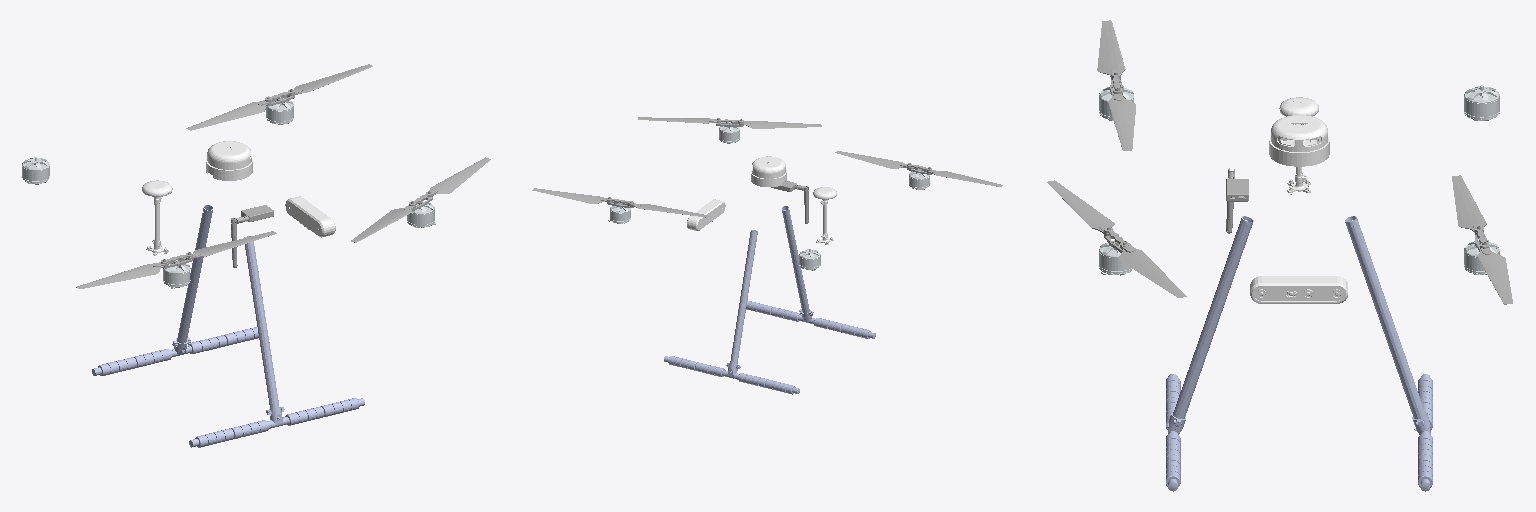
--- What the picture shows (computed from the rendered views, not written in the file) ---
3 views of the same robot in one strip: view 1: azimuth 30°, elevation 25°; view 2: azimuth 150°, elevation 25°; view 3: azimuth 270°, elevation 25° (orthographic).
Robot: X650_UAV — 20 links, 19 joints (4 continuous, 15 fixed); root link base_link; default pose: every joint at zero.
Visible links, largest first — view 1: right_landing_gear_link, left_landing_gear_link, lidar_link, back_prop_cw_link, front_prop_cw_link, front_prop_ccw_link, depth_camera_link, gps_module_link, telemetry_link, back_motor_ccw_link, front_motor_cw_link, back_motor_cw_link (+1 smaller); view 2: left_landing_gear_link, right_landing_gear_link, lidar_link, front_prop_cw_link, front_prop_ccw_link, back_prop_cw_link, depth_camera_link; view 3: left_landing_gear_link, right_landing_gear_link, lidar_link, depth_camera_link, front_prop_ccw_link, front_prop_cw_link, back_prop_cw_link, back_motor_ccw_link, gps_module_link, telemetry_link, front_motor_ccw_link, front_motor_cw_link.
Boxes of the visible links, box(x1,y1,x2,y2) form: right_landing_gear_link: box(189, 236, 364, 447); left_landing_gear_link: box(92, 205, 258, 375); lidar_link: box(206, 141, 252, 180); back_prop_cw_link: box(76, 231, 276, 288); front_prop_cw_link: box(186, 64, 372, 130); front_prop_ccw_link: box(351, 157, 490, 242); depth_camera_link: box(285, 196, 335, 237); gps_module_link: box(142, 180, 172, 255); telemetry_link: box(231, 205, 273, 267); back_motor_ccw_link: box(21, 157, 49, 184); front_motor_cw_link: box(266, 97, 293, 124); back_motor_cw_link: box(163, 260, 190, 288); left_landing_gear_link: box(664, 230, 799, 394); right_landing_gear_link: box(746, 206, 875, 338); lidar_link: box(751, 156, 786, 186); front_prop_cw_link: box(532, 188, 707, 217); front_prop_ccw_link: box(638, 117, 821, 128); back_prop_cw_link: box(835, 151, 1002, 186); depth_camera_link: box(687, 199, 725, 230); left_landing_gear_link: box(1345, 216, 1432, 491); right_landing_gear_link: box(1166, 216, 1253, 491); lidar_link: box(1269, 115, 1329, 166); depth_camera_link: box(1250, 276, 1347, 303); front_prop_ccw_link: box(1047, 180, 1186, 297); front_prop_cw_link: box(1452, 175, 1512, 304); back_prop_cw_link: box(1097, 20, 1135, 150); back_motor_ccw_link: box(1464, 85, 1499, 120); gps_module_link: box(1279, 97, 1318, 194); telemetry_link: box(1226, 168, 1248, 233); front_motor_ccw_link: box(1099, 240, 1132, 275); front_motor_cw_link: box(1464, 241, 1499, 274).
Size in the robot's own frame: 0.8458 by 0.5875 by 0.4385 metres.
Meshes: 20 distinct files referenced, 13 mesh visuals loaded (13 binary STL); not drawn: 7 (reference not matched to a file when rendering).

URDF robot description (X650_UAV):
<?xml version="1.0" encoding="utf-8"?>
<!-- This URDF was automatically created by SolidWorks to URDF Exporter! Originally created by Stephen Brawner ([email redacted]) 
     Commit Version: 1.6.0-4-g7f85cfe  Build Version: 1.6.7995.38578
     For more information, please see http://wiki.ros.org/sw_urdf_exporter -->
<robot
  name="X650_UAV">
  <link
    name="base_link">
    <inertial>
      <origin
        xyz="-0.0025838 0.00051225 -0.019551"
        rpy="0 0 0" />
      <mass
        value="1.4371" />
      <inertia
        ixx="0.00098413"
        ixy="4.9253E-05"
        ixz="6.648E-07"
        iyy="0.0038692"
        iyz="2.8305E-08"
        izz="0.0047748" />
    </inertial>
    <visual>
      <origin
        xyz="0 0 0"
        rpy="0 0 0" />
      <geometry>
        <mesh
          filename="package://x650_description/meshes/base_link.STL" />
      </geometry>
      <material
        name="">
        <color
          rgba="0.75294 0.75294 0.75294 1" />
      </material>
    </visual>
    <collision>
      <origin
        xyz="0 0 0"
        rpy="0 0 0" />
      <geometry>
        <mesh
          filename="package://x650_description/meshes/base_link.STL" />
      </geometry>
    </collision>
  </link>
  <link
    name="front_arm_ccw_link">
    <inertial>
      <origin
        xyz="5.14187352146367E-06 0.000103088445734027 0.101201605126024"
        rpy="0 0 0" />
      <mass
        value="0.163581488184572" />
      <inertia
        ixx="0.000495858318312467"
        ixy="1.69719015225508E-08"
        ixz="-1.5555901263121E-08"
        iyy="0.000496622426658751"
        iyz="3.01279610270572E-08"
        izz="1.58530814438199E-05" />
    </inertial>
    <visual>
      <origin
        xyz="0 0 0"
        rpy="0 0 0" />
      <geometry>
        <mesh
          filename="package://x650_description/meshes/front_arm_ccw_link.STL" />
      </geometry>
      <material
        name="">
        <color
          rgba="0.529411764705882 0.549019607843137 0.549019607843137 1" />
      </material>
    </visual>
    <collision>
      <origin
        xyz="0 0 0"
        rpy="0 0 0" />
      <geometry>
        <mesh
          filename="package://x650_description/meshes/front_arm_ccw_link.STL" />
      </geometry>
    </collision>
  </link>
  <joint
    name="front_arm_ccw_joint"
    type="fixed">
    <origin
      xyz="0.080474 -0.082381 0.043625"
      rpy="-1.5708 0 -2.3562" />
    <parent
      link="base_link" />
    <child
      link="front_arm_ccw_link" />
    <axis
      xyz="0 0 0" />
  </joint>
  <link
    name="front_motor_ccw_link">
    <inertial>
      <origin
        xyz="-5.94792757824258E-08 0.0089323100189773 0.000144520880497323"
        rpy="0 0 0" />
      <mass
        value="0.107028077375073" />
      <inertia
        ixx="1.99852843592467E-05"
        ixy="-9.14808285986034E-11"
        ixz="-2.70349866236598E-09"
        iyy="2.60832369889382E-05"
        iyz="2.20707374208015E-07"
        izz="1.97284529490253E-05" />
    </inertial>
    <visual>
      <origin
        xyz="0 0 0"
        rpy="0 0 0" />
      <geometry>
        <mesh
          filename="package://x650_description/meshes/front_motor_ccw_link.STL" />
      </geometry>
      <material
        name="">
        <color
          rgba="0.898039215686275 0.917647058823529 0.929411764705882 1" />
      </material>
    </visual>
    <collision>
      <origin
        xyz="0 0 0"
        rpy="0 0 0" />
      <geometry>
        <mesh
          filename="package://x650_description/meshes/front_motor_ccw_link.STL" />
      </geometry>
    </collision>
  </link>
  <joint
    name="front_motor_ccw_joint"
    type="fixed">
    <origin
      xyz="0 -0.022 0.209"
      rpy="0 0 3.1416" />
    <parent
      link="front_arm_ccw_link" />
    <child
      link="front_motor_ccw_link" />
    <axis
      xyz="0 0 0" />
  </joint>
  <link
    name="front_prop_ccw_link">
    <inertial>
      <origin
        xyz="2.11228381036821E-05 -0.000575623595751584 0.00874250262086616"
        rpy="0 0 0" />
      <mass
        value="0.0232885965258771" />
      <inertia
        ixx="7.81406911098823E-07"
        ixy="-1.93046094872738E-06"
        ixz="-5.84228099790564E-08"
        iyy="2.83657143471591E-05"
        iyz="-3.95826230995061E-08"
        izz="2.90964600411815E-05" />
    </inertial>
    <visual>
      <origin
        xyz="0 0 0"
        rpy="0 0 0" />
      <geometry>
        <mesh
          filename="package://x650_description/meshes/front_prop_ccw_link.STL" />
      </geometry>
      <material
        name="">
        <color
          rgba="0.752941176470588 0.752941176470588 0.752941176470588 1" />
      </material>
    </visual>
    <collision>
      <origin
        xyz="0 0 0"
        rpy="0 0 0" />
      <geometry>
        <mesh
          filename="package://x650_description/meshes/front_prop_ccw_link.STL" />
      </geometry>
    </collision>
  </link>
  <joint
    name="front_prop_ccw_joint"
    type="continuous">
    <origin
      xyz="0 0.024318 0"
      rpy="1.5108 0.40362 3.1394" />
    <parent
      link="front_motor_ccw_link" />
    <child
      link="front_prop_ccw_link" />
    <axis
      xyz="0 0 1" />
    <limit
      effort="100"
      velocity="100" />
  </joint>
  <link
    name="front_arm_cw_link">
    <inertial>
      <origin
        xyz="5.14187362136292E-06 0.000103088445712607 0.10120160512516"
        rpy="0 0 0" />
      <mass
        value="0.163581488183559" />
      <inertia
        ixx="0.000495858318312464"
        ixy="1.69719015255707E-08"
        ixz="-1.55559012619851E-08"
        iyy="0.000496622426658752"
        iyz="3.01279610276289E-08"
        izz="1.58530814438145E-05" />
    </inertial>
    <visual>
      <origin
        xyz="0 0 0"
        rpy="0 0 0" />
      <geometry>
        <mesh
          filename="package://x650_description/meshes/front_arm_cw_link.STL" />
      </geometry>
      <material
        name="">
        <color
          rgba="0.529411764705882 0.549019607843137 0.549019607843137 1" />
      </material>
    </visual>
    <collision>
      <origin
        xyz="0 0 0"
        rpy="0 0 0" />
      <geometry>
        <mesh
          filename="package://x650_description/meshes/front_arm_cw_link.STL" />
      </geometry>
    </collision>
  </link>
  <joint
    name="front_arm_cw_joint"
    type="fixed">
    <origin
      xyz="0.0804741042413417 0.0818613658673572 0.0436254108086869"
      rpy="-1.5707963267949 0 -0.785398163397448" />
    <parent
      link="base_link" />
    <child
      link="front_arm_cw_link" />
    <axis
      xyz="0 0 0" />
  </joint>
  <link
    name="front_motor_cw_link">
    <inertial>
      <origin
        xyz="-5.94792757269147E-08 0.00893231001897728 0.000144520880497323"
        rpy="0 0 0" />
      <mass
        value="0.107028077375073" />
      <inertia
        ixx="1.99852843592467E-05"
        ixy="-9.14808285889419E-11"
        ixz="-2.70349866238292E-09"
        iyy="2.60832369889382E-05"
        iyz="2.20707374208015E-07"
        izz="1.97284529490253E-05" />
    </inertial>
    <visual>
      <origin
        xyz="0 0 0"
        rpy="0 0 0" />
      <geometry>
        <mesh
          filename="package://x650_description/meshes/front_motor_cw_link.STL" />
      </geometry>
      <material
        name="">
        <color
          rgba="0.898039215686275 0.917647058823529 0.929411764705882 1" />
      </material>
    </visual>
    <collision>
      <origin
        xyz="0 0 0"
        rpy="0 0 0" />
      <geometry>
        <mesh
          filename="package://x650_description/meshes/front_motor_cw_link.STL" />
      </geometry>
    </collision>
  </link>
  <joint
    name="front_motor_cw_joint"
    type="fixed">
    <origin
      xyz="0 -0.022 0.209"
      rpy="0 0 3.14159265358979" />
    <parent
      link="front_arm_cw_link" />
    <child
      link="front_motor_cw_link" />
    <axis
      xyz="0 0 0" />
  </joint>
  <link
    name="front_prop_cw_link">
    <inertial>
      <origin
        xyz="1.70322207349027E-06 -0.000131171076623415 0.00551466266249338"
        rpy="0 0 0" />
      <mass
        value="0.023286089430334" />
      <inertia
        ixx="6.48766355495004E-07"
        ixy="-1.71425530770085E-07"
        ixz="1.31741915464193E-10"
        iyy="2.84758053692334E-05"
        iyz="5.4172324392471E-11"
        izz="2.90783664832776E-05" />
    </inertial>
    <visual>
      <origin
        xyz="0 0 0"
        rpy="0 0 0" />
      <geometry>
        <mesh
          filename="package://x650_description/meshes/front_prop_cw_link.STL" />
      </geometry>
      <material
        name="">
        <color
          rgba="0.752941176470588 0.752941176470588 0.752941176470588 1" />
      </material>
    </visual>
    <collision>
      <origin
        xyz="0 0 0"
        rpy="0 0 0" />
      <geometry>
        <mesh
          filename="package://x650_description/meshes/front_prop_cw_link.STL" />
      </geometry>
    </collision>
  </link>
  <joint
    name="front_prop_cw_joint"
    type="continuous">
    <origin
      xyz="0 0.027 0"
      rpy="-1.5708 0.94181 0" />
    <parent
      link="front_motor_cw_link" />
    <child
      link="front_prop_cw_link" />
    <axis
      xyz="0 0 1" />
    <limit
      effort="100"
      velocity="100" />
  </joint>
  <link
    name="back_arm_ccw_link">
    <inertial>
      <origin
        xyz="5.1418737516476E-06 0.000103088445681951 0.101201605122122"
        rpy="0 0 0" />
      <mass
        value="0.163581488181259" />
      <inertia
        ixx="0.000495858318312453"
        ixy="1.69719015333838E-08"
        ixz="-1.55559012587393E-08"
        iyy="0.000496622426658752"
        iyz="3.01279610291379E-08"
        izz="1.58530814438022E-05" />
    </inertial>
    <visual>
      <origin
        xyz="0 0 0"
        rpy="0 0 0" />
      <geometry>
        <mesh
          filename="package://x650_description/meshes/back_arm_ccw_link.STL" />
      </geometry>
      <material
        name="">
        <color
          rgba="0.529411764705882 0.549019607843137 0.549019607843137 1" />
      </material>
    </visual>
    <collision>
      <origin
        xyz="0 0 0"
        rpy="0 0 0" />
      <geometry>
        <mesh
          filename="package://x650_description/meshes/back_arm_ccw_link.STL" />
      </geometry>
    </collision>
  </link>
  <joint
    name="back_arm_ccw_joint"
    type="fixed">
    <origin
      xyz="-0.0837685364457783 0.0818613658673572 0.0436254108086869"
      rpy="-1.5707963267949 0 0.785398163397448" />
    <parent
      link="base_link" />
    <child
      link="back_arm_ccw_link" />
    <axis
      xyz="0 0 0" />
  </joint>
  <link
    name="back_motor_ccw_link">
    <inertial>
      <origin
        xyz="-5.94792757546703E-08 0.00893231001897728 0.000144520880497268"
        rpy="0 0 0" />
      <mass
        value="0.107028077375073" />
      <inertia
        ixx="1.99852843592467E-05"
        ixy="-9.14808285776261E-11"
        ixz="-2.70349866238376E-09"
        iyy="2.60832369889382E-05"
        iyz="2.20707374208025E-07"
        izz="1.97284529490253E-05" />
    </inertial>
    <visual>
      <origin
        xyz="0 0 0"
        rpy="0 0 0" />
      <geometry>
        <mesh
          filename="package://x650_description/meshes/back_motor_ccw_link.STL" />
      </geometry>
      <material
        name="">
        <color
          rgba="0.898039215686275 0.917647058823529 0.929411764705882 1" />
      </material>
    </visual>
    <collision>
      <origin
        xyz="0 0 0"
        rpy="0 0 0" />
      <geometry>
        <mesh
          filename="package://x650_description/meshes/back_motor_ccw_link.STL" />
      </geometry>
    </collision>
  </link>
  <joint
    name="back_motor_ccw_joint"
    type="fixed">
    <origin
      xyz="0 -0.022 0.209"
      rpy="0 0 3.14159265358979" />
    <parent
      link="back_arm_ccw_link" />
    <child
      link="back_motor_ccw_link" />
    <axis
      xyz="0 0 0" />
  </joint>
  <link
    name="back_prop_ccw_link">
    <inertial>
      <origin
        xyz="2.11084475078838E-05 -0.000575616574168103 0.00874246753673161"
        rpy="0 0 0" />
      <mass
        value="0.0232874208355566" />
      <inertia
        ixx="7.81255330319095E-07"
        ixy="-1.92969901663437E-06"
        ixz="-5.83835421242838E-08"
        iyy="2.83627343839516E-05"
        iyz="-3.95752885069779E-08"
        izz="2.90933307991966E-05" />
    </inertial>
    <visual>
      <origin
        xyz="0 0 0"
        rpy="0 0 0" />
      <geometry>
        <mesh
          filename="package://x650_description/meshes/back_prop_ccw_link.STL" />
      </geometry>
      <material
        name="">
        <color
          rgba="0.752941176470588 0.752941176470588 0.752941176470588 1" />
      </material>
    </visual>
    <collision>
      <origin
        xyz="0 0 0"
        rpy="0 0 0" />
      <geometry>
        <mesh
          filename="package://x650_description/meshes/back_prop_ccw_link.STL" />
      </geometry>
    </collision>
  </link>
  <joint
    name="back_prop_ccw_joint"
    type="continuous">
    <origin
      xyz="0 0.024318 0"
      rpy="-1.6317 -0.71466 0.0026132" />
    <parent
      link="back_motor_ccw_link" />
    <child
      link="back_prop_ccw_link" />
    <axis
      xyz="0 0 1" />
    <limit
      effort="100"
      velocity="100" />
  </joint>
  <link
    name="back_arm_cw_link">
    <inertial>
      <origin
        xyz="5.14187358731377E-06 0.000103088445712947 0.101201605123568"
        rpy="0 0 0" />
      <mass
        value="0.163581488182937" />
      <inertia
        ixx="0.000495858318312459"
        ixy="1.69719015281368E-08"
        ixz="-1.555590126059E-08"
        iyy="0.000496622426658752"
        iyz="3.01279610281771E-08"
        izz="1.58530814438118E-05" />
    </inertial>
    <visual>
      <origin
        xyz="0 0 0"
        rpy="0 0 0" />
      <geometry>
        <mesh
          filename="package://x650_description/meshes/back_arm_cw_link.STL" />
      </geometry>
      <material
        name="">
        <color
          rgba="0.529411764705882 0.549019607843137 0.549019607843137 1" />
      </material>
    </visual>
    <collision>
      <origin
        xyz="0 0 0"
        rpy="0 0 0" />
      <geometry>
        <mesh
          filename="package://x650_description/meshes/back_arm_cw_link.STL" />
      </geometry>
    </collision>
  </link>
  <joint
    name="back_arm_cw_joint"
    type="fixed">
    <origin
      xyz="-0.0837685364457783 -0.0823812748197628 0.0436254108086869"
      rpy="-1.5707963267949 0 2.35619449019234" />
    <parent
      link="base_link" />
    <child
      link="back_arm_cw_link" />
    <axis
      xyz="0 0 0" />
  </joint>
  <link
    name="back_motor_cw_link">
    <inertial>
      <origin
        xyz="-5.94792757269147E-08 0.0089323100189773 0.000144520880497323"
        rpy="0 0 0" />
      <mass
        value="0.107028077375073" />
      <inertia
        ixx="1.99852843592466E-05"
        ixy="-9.14808285823906E-11"
        ixz="-2.70349866238037E-09"
        iyy="2.60832369889382E-05"
        iyz="2.20707374207996E-07"
        izz="1.97284529490252E-05" />
    </inertial>
    <visual>
      <origin
        xyz="0 0 0"
        rpy="0 0 0" />
      <geometry>
        <mesh
          filename="package://x650_description/meshes/back_motor_cw_link.STL" />
      </geometry>
      <material
        name="">
        <color
          rgba="0.898039215686275 0.917647058823529 0.929411764705882 1" />
      </material>
    </visual>
    <collision>
      <origin
        xyz="0 0 0"
        rpy="0 0 0" />
      <geometry>
        <mesh
          filename="package://x650_description/meshes/back_motor_cw_link.STL" />
      </geometry>
    </collision>
  </link>
  <joint
    name="back_motor_cw_joint"
    type="fixed">
    <origin
      xyz="0 -0.022 0.209"
      rpy="0 0 3.14159265358979" />
    <parent
      link="back_arm_cw_link" />
    <child
      link="back_motor_cw_link" />
    <axis
      xyz="0 0 0" />
  </joint>
  <link
    name="back_prop_cw_link">
    <inertial>
      <origin
        xyz="2.01600434951432E-06 -0.000131195382900184 0.00551466607183501"
        rpy="0 0 0" />
      <mass
        value="0.0232863496485807" />
      <inertia
        ixx="6.48765892273756E-07"
        ixy="-1.71386894670728E-07"
        ixz="1.316861419099E-10"
        iyy="2.84770797891742E-05"
        iyz="5.41589319117329E-11"
        izz="2.90796404442591E-05" />
    </inertial>
    <visual>
      <origin
        xyz="0 0 0"
        rpy="0 0 0" />
      <geometry>
        <mesh
          filename="package://x650_description/meshes/back_prop_cw_link.STL" />
      </geometry>
      <material
        name="">
        <color
          rgba="0.752941176470588 0.752941176470588 0.752941176470588 1" />
      </material>
    </visual>
    <collision>
      <origin
        xyz="0 0 0"
        rpy="0 0 0" />
      <geometry>
        <mesh
          filename="package://x650_description/meshes/back_prop_cw_link.STL" />
      </geometry>
    </collision>
  </link>
  <joint
    name="back_prop_cw_joint"
    type="continuous">
    <origin
      xyz="0 0.027 0"
      rpy="1.5708 -0.83821 3.1416" />
    <parent
      link="back_motor_cw_link" />
    <child
      link="back_prop_cw_link" />
    <axis
      xyz="0 0 1" />
    <limit
      effort="100"
      velocity="100" />
  </joint>
  <link
    name="depth_camera_link">
    <inertial>
      <origin
        xyz="-7.366734119163E-06 -6.98368398159342E-05 9.2241584007894E-06"
        rpy="0 0 0" />
      <mass
        value="0.0907155514174442" />
      <inertia
        ixx="0.000111301930039104"
        ixy="4.98381251724305E-09"
        ixz="9.62362302137436E-09"
        iyy="1.04040263556578E-05"
        iyz="-3.66422974933274E-12"
        izz="0.000109744132149808" />
    </inertial>
    <visual>
      <origin
        xyz="0 0 0"
        rpy="0 0 0" />
      <geometry>
        <mesh
          filename="package://x650_description/meshes/depth_camera_link.STL" />
      </geometry>
      <material
        name="">
        <color
          rgba="1 1 1 0.35" />
      </material>
    </visual>
    <collision>
      <origin
        xyz="0 0 0"
        rpy="0 0 0" />
      <geometry>
        <mesh
          filename="package://x650_description/meshes/depth_camera_link.STL" />
      </geometry>
    </collision>
  </link>
  <joint
    name="depth_camera_joint"
    type="fixed">
    <origin
      xyz="0.15251 0.00094005 -0.0055746"
      rpy="3.1416 0 0" />
    <parent
      link="base_link" />
    <child
      link="depth_camera_link" />
    <axis
      xyz="0 0 0" />
  </joint>
  <link
    name="lidar_link">
    <inertial>
      <origin
        xyz="4.89440663804838E-06 -4.43964162024255E-06 -1.3812162453497E-06"
        rpy="0 0 0" />
      <mass
        value="0.176960287088196" />
      <inertia
        ixx="8.43864925700227E-05"
        ixy="5.21492121593894E-08"
        ixz="2.33776208214623E-06"
        iyy="8.04534827821915E-05"
        iyz="3.09845475948483E-08"
        izz="0.00011764357999356" />
    </inertial>
    <visual>
      <origin
        xyz="0 0 0"
        rpy="0 0 0" />
      <geometry>
        <mesh
          filename="package://x650_description/meshes/lidar_link.STL" />
      </geometry>
      <material
        name="">
        <color
          rgba="1 1 1 0.35" />
      </material>
    </visual>
    <collision>
      <origin
        xyz="0 0 0"
        rpy="0 0 0" />
      <geometry>
        <mesh
          filename="package://x650_description/meshes/lidar_link.STL" />
      </geometry>
    </collision>
  </link>
  <joint
    name="lidar_joint"
    type="fixed">
    <origin
      xyz="0 0 0.13143"
      rpy="0 0 0" />
    <parent
      link="base_link" />
    <child
      link="lidar_link" />
    <axis
      xyz="0 0 0" />
  </joint>
  <link
    name="telemetry_link">
    <inertial>
      <origin
        xyz="0.0148961876406002 0.0141596275423504 0.00277818099909896"
        rpy="0 0 0" />
      <mass
        value="0.0217042216085899" />
      <inertia
        ixx="3.81137572694548E-06"
        ixy="3.72531692602976E-08"
        ixz="-1.15177452378755E-08"
        iyy="3.8302773899507E-06"
        iyz="-9.49014295916824E-08"
        izz="5.63442708703829E-06" />
    </inertial>
    <visual>
      <origin
        xyz="0 0 0"
        rpy="0 0 0" />
      <geometry>
        <mesh
          filename="package://x650_description/meshes/telemetry_link.STL" />
      </geometry>
      <material
        name="">
        <color
          rgba="0.752941176470588 0.752941176470588 0.752941176470588 1" />
      </material>
    </visual>
    <collision>
      <origin
        xyz="0 0 0"
        rpy="0 0 0" />
      <geometry>
        <mesh
          filename="package://x650_description/meshes/telemetry_link.STL" />
      </geometry>
    </collision>
  </link>
  <joint
    name="telemetry_joint"
    type="fixed">
    <origin
      xyz="0.0086156 -0.078024 0.070825"
      rpy="-1.5708 0 3.1416" />
    <parent
      link="base_link" />
    <child
      link="telemetry_link" />
    <axis
      xyz="0 0 0" />
  </joint>
  <link
    name="gps_module_link">
    <inertial>
      <origin
        xyz="0.000137933965444488 0.000103618862632354 -0.0171213514877413"
        rpy="0 0 0" />
      <mass
        value="0.0362212043422479" />
      <inertia
        ixx="7.48419196925988E-06"
        ixy="8.39991048815852E-10"
        ixz="9.97728091181044E-10"
        iyy="7.46530815194579E-06"
        iyz="4.46041895131925E-09"
        izz="6.69196816346871E-06" />
    </inertial>
    <visual>
      <origin
        xyz="0 0 0"
        rpy="0 0 0" />
      <geometry>
        <mesh
          filename="package://x650_description/meshes/gps_module_link.STL" />
      </geometry>
      <material
        name="">
        <color
          rgba="1 1 1 0.35" />
      </material>
    </visual>
    <collision>
      <origin
        xyz="0 0 0"
        rpy="0 0 0" />
      <geometry>
        <mesh
          filename="package://x650_description/meshes/gps_module_link.STL" />
      </geometry>
    </collision>
  </link>
  <joint
    name="gps_module_joint"
    type="fixed">
    <origin
      xyz="-0.13565 -0.00025995 0.10513"
      rpy="0 0 -1.8171" />
    <parent
      link="base_link" />
    <child
      link="gps_module_link" />
    <axis
      xyz="0 0 0" />
  </joint>
  <link
    name="pixhawk_jetson_mc_link">
    <inertial>
      <origin
        xyz="0.053328160857166 0.0387469871436744 0.00640110047670922"
        rpy="0 0 0" />
      <mass
        value="0.0709988883339184" />
      <inertia
        ixx="2.1251111342056E-05"
        ixy="-4.87583782961505E-08"
        ixz="-2.54207313090682E-08"
        iyy="3.176459259196E-05"
        iyz="-9.72004834088894E-08"
        izz="5.16018249043034E-05" />
    </inertial>
    <visual>
      <origin
        xyz="0 0 0"
        rpy="0 0 0" />
      <geometry>
        <mesh
          filename="package://x650_description/meshes/pixhawk_jetson_mc_link.STL" />
      </geometry>
      <material
        name="">
        <color
          rgba="0.752941176470588 0.752941176470588 0.752941176470588 1" />
      </material>
    </visual>
    <collision>
      <origin
        xyz="0 0 0"
        rpy="0 0 0" />
      <geometry>
        <mesh
          filename="package://x650_description/meshes/pixhawk_jetson_mc_link.STL" />
      </geometry>
    </collision>
  </link>
  <joint
    name="pixhawk_jetson_mc_joint"
    type="fixed">
    <origin
      xyz="-0.066001 -0.038689 0.076111"
      rpy="-0.0052969 0 0" />
    <parent
      link="base_link" />
    <child
      link="pixhawk_jetson_mc_link" />
    <axis
      xyz="0 0 0" />
  </joint>
  <link
    name="left_landing_gear_link">
    <inertial>
      <origin
        xyz="-0.0420938755140544 -0.0133856882957778 0.149700003124657"
        rpy="0 0 0" />
      <mass
        value="0.105117728110096" />
      <inertia
        ixx="0.000177954535606045"
        ixy="-6.07368643643095E-05"
        ixz="4.52220142134236E-12"
        iyy="0.000350245160531095"
        iyz="-2.07387976250726E-11"
        izz="0.000216053238510137" />
    </inertial>
    <visual>
      <origin
        xyz="0 0 0"
        rpy="0 0 0" />
      <geometry>
        <mesh
          filename="package://x650_description/meshes/left_landing_gear_link.STL" />
      </geometry>
      <material
        name="">
        <color
          rgba="0.792156862745098 0.819607843137255 0.933333333333333 1" />
      </material>
    </visual>
    <collision>
      <origin
        xyz="0 0 0"
        rpy="0 0 0" />
      <geometry>
        <mesh
          filename="package://x650_description/meshes/left_landing_gear_link.STL" />
      </geometry>
    </collision>
  </link>
  <joint
    name="left_landing_gear_joint"
    type="fixed">
    <origin
      xyz="-0.15135 0.15862 -0.27588"
      rpy="0 1.5708 0" />
    <parent
      link="base_link" />
    <child
      link="left_landing_gear_link" />
    <axis
      xyz="0 0 0" />
  </joint>
  <link
    name="right_landing_gear_link">
    <inertial>
      <origin
        xyz="-0.0421162765733715 0.0133150851053672 0.149699984840993"
        rpy="0 0 0" />
      <mass
        value="0.105117769059469" />
      <inertia
        ixx="0.00017795251828581"
        ixy="6.07340026620217E-05"
        ixz="-5.76750103039677E-12"
        iyy="0.000350247180814001"
        iyz="-1.666573183629E-11"
        izz="0.000216053240015872" />
    </inertial>
    <visual>
      <origin
        xyz="0 0 0"
        rpy="0 0 0" />
      <geometry>
        <mesh
          filename="package://x650_description/meshes/right_landing_gear_link.STL" />
      </geometry>
      <material
        name="">
        <color
          rgba="0.792156862745098 0.819607843137255 0.933333333333333 1" />
      </material>
    </visual>
    <collision>
      <origin
        xyz="0 0 0"
        rpy="0 0 0" />
      <geometry>
        <mesh
          filename="package://x650_description/meshes/right_landing_gear_link.STL" />
      </geometry>
    </collision>
  </link>
  <joint
    name="right_landing_gear_joint"
    type="fixed">
    <origin
      xyz="-0.15135 -0.15914 -0.27588"
      rpy="0 1.5708 0" />
    <parent
      link="base_link" />
    <child
      link="right_landing_gear_link" />
    <axis
      xyz="0 0 0" />
  </joint>
</robot>
